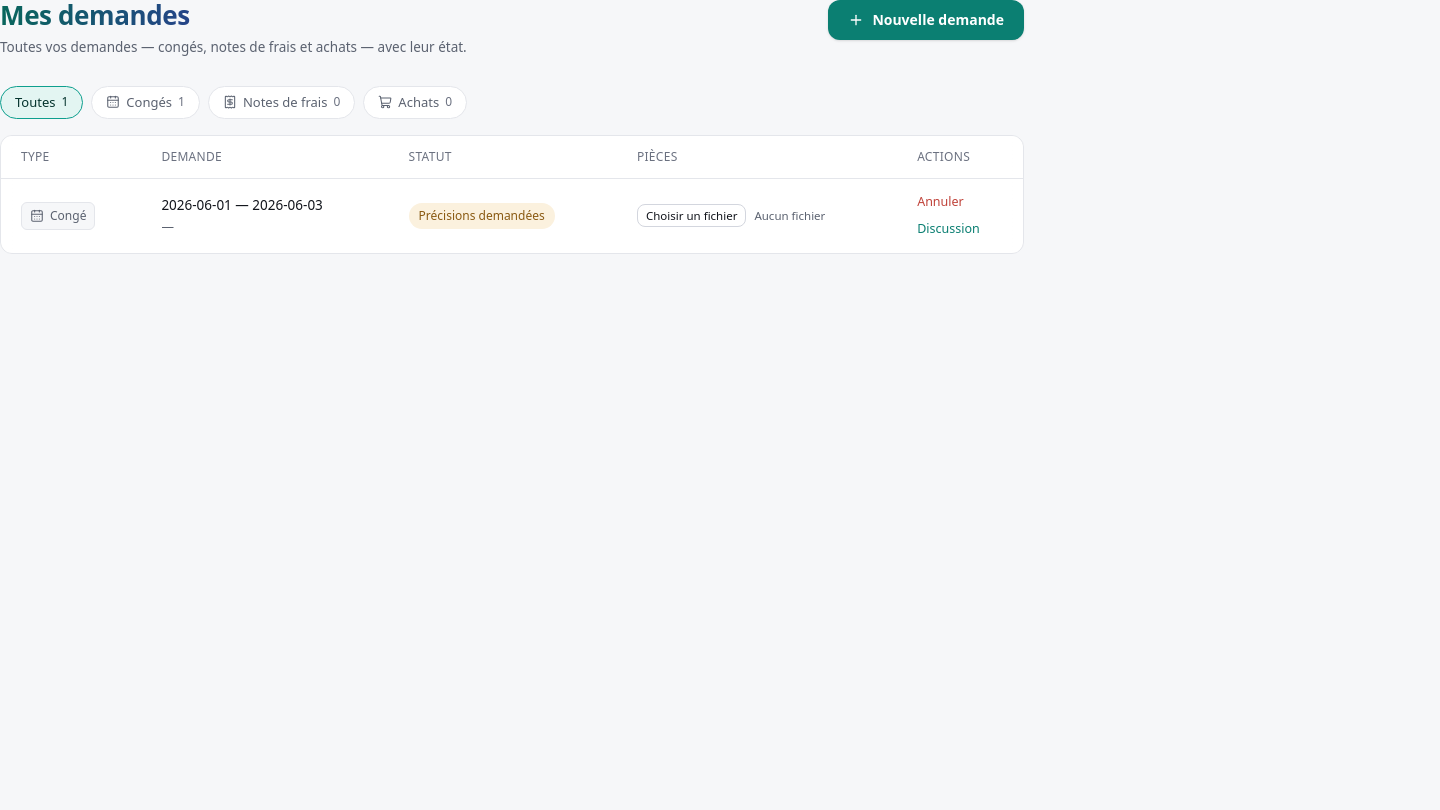
MesDemandesPage — congés › fermer la boîte de dialogue la retire de l'écran
Click the button "Discussion": (948, 229) x1=917 y1=220 x2=980 y2=239
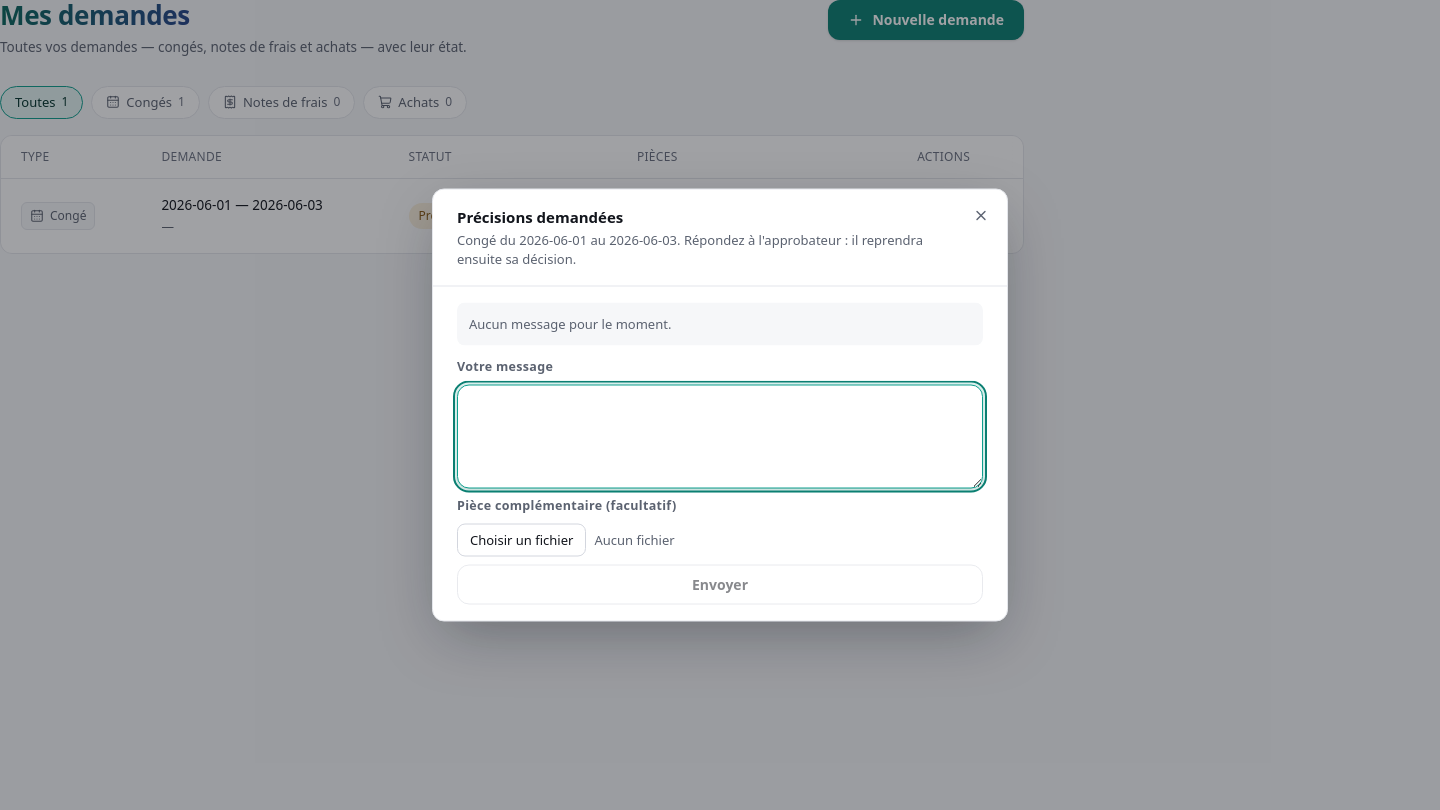
Expected: the dialog is shown, x1=432 y1=188 x2=1008 y2=622
Click the button named "Fermer": (981, 216) x1=967 y1=202 x2=995 y2=230
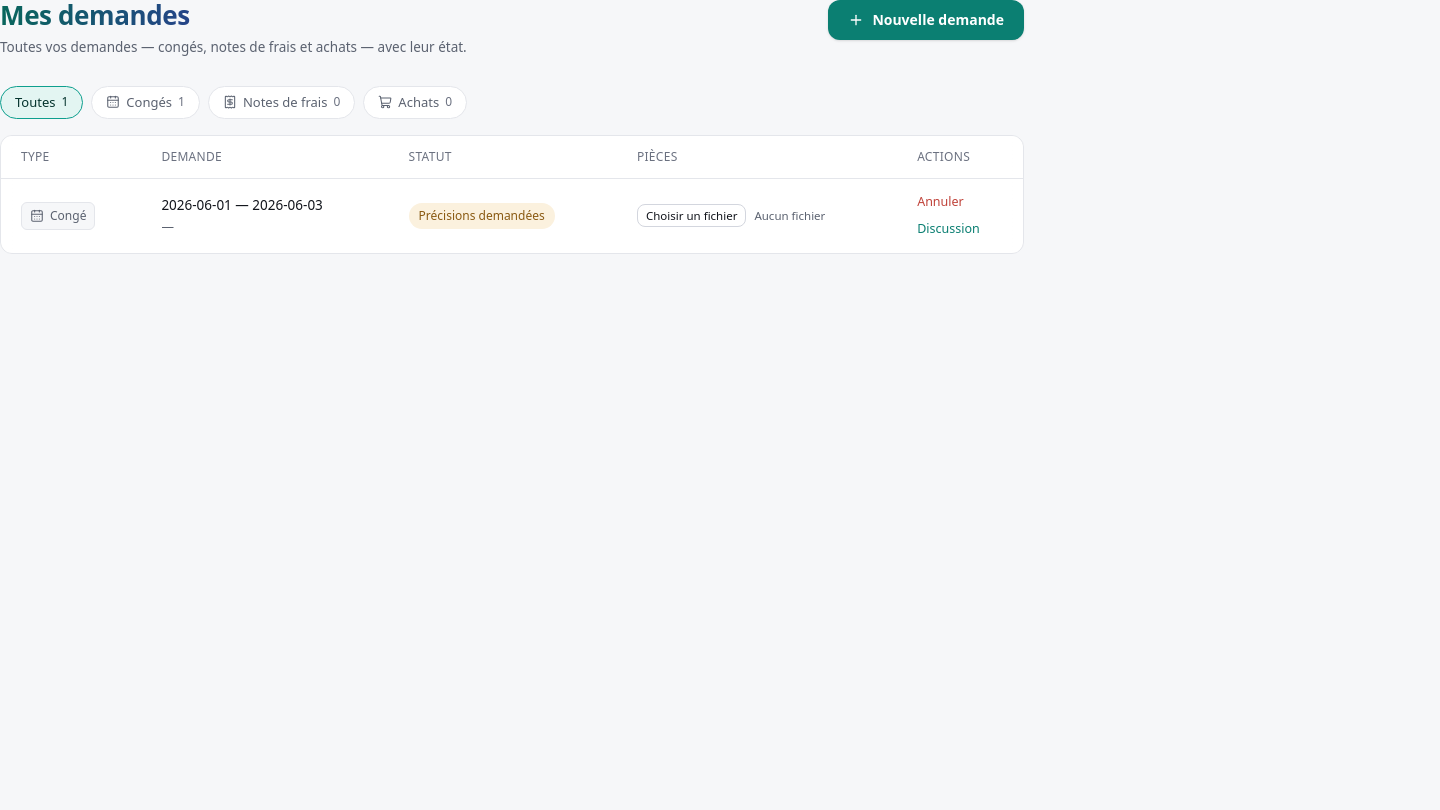
Expected: the dialog is gone
